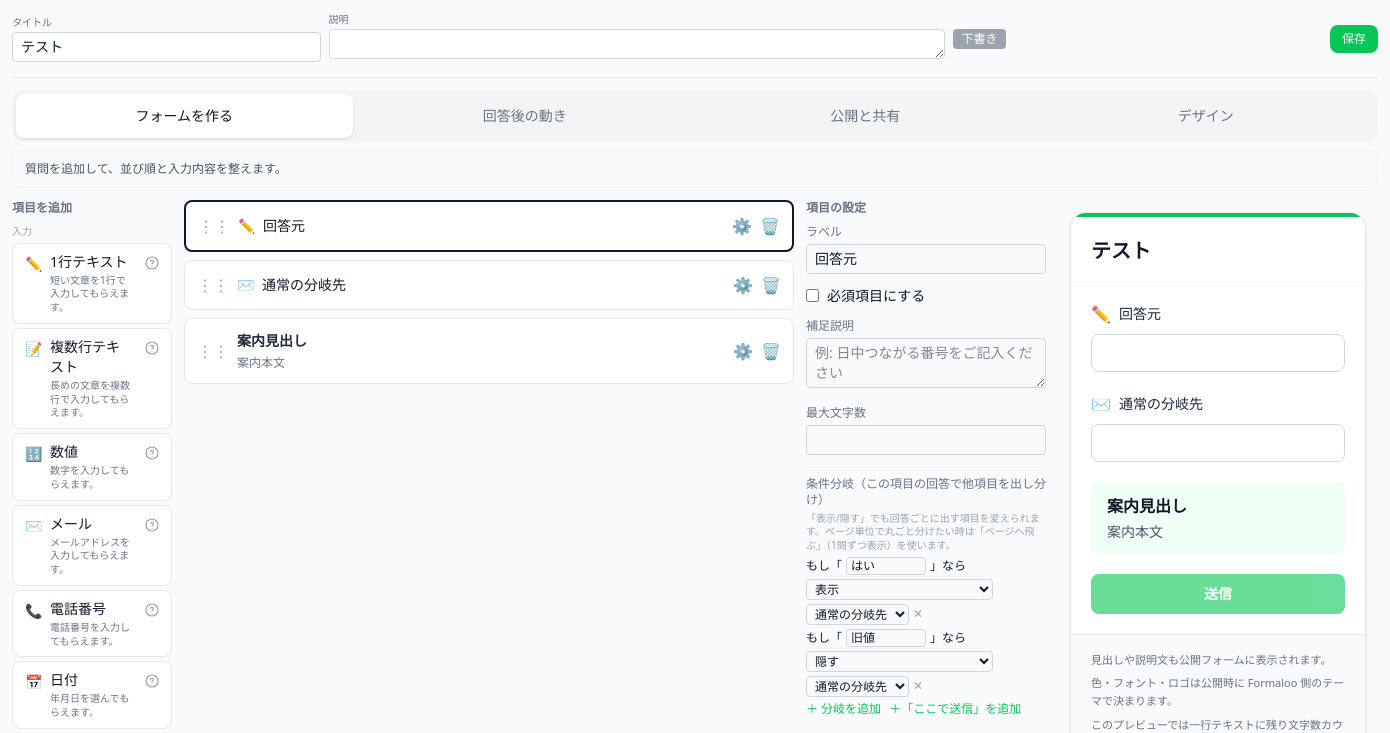
Test: FormBuilder — 装飾を条件分岐から除外 (T-B9) › 装飾は既存 rule の target options に出ず、装飾自身には条件分岐 UI がない
Click the text "案内見出し" at (272, 340), box [237,330,307,350]
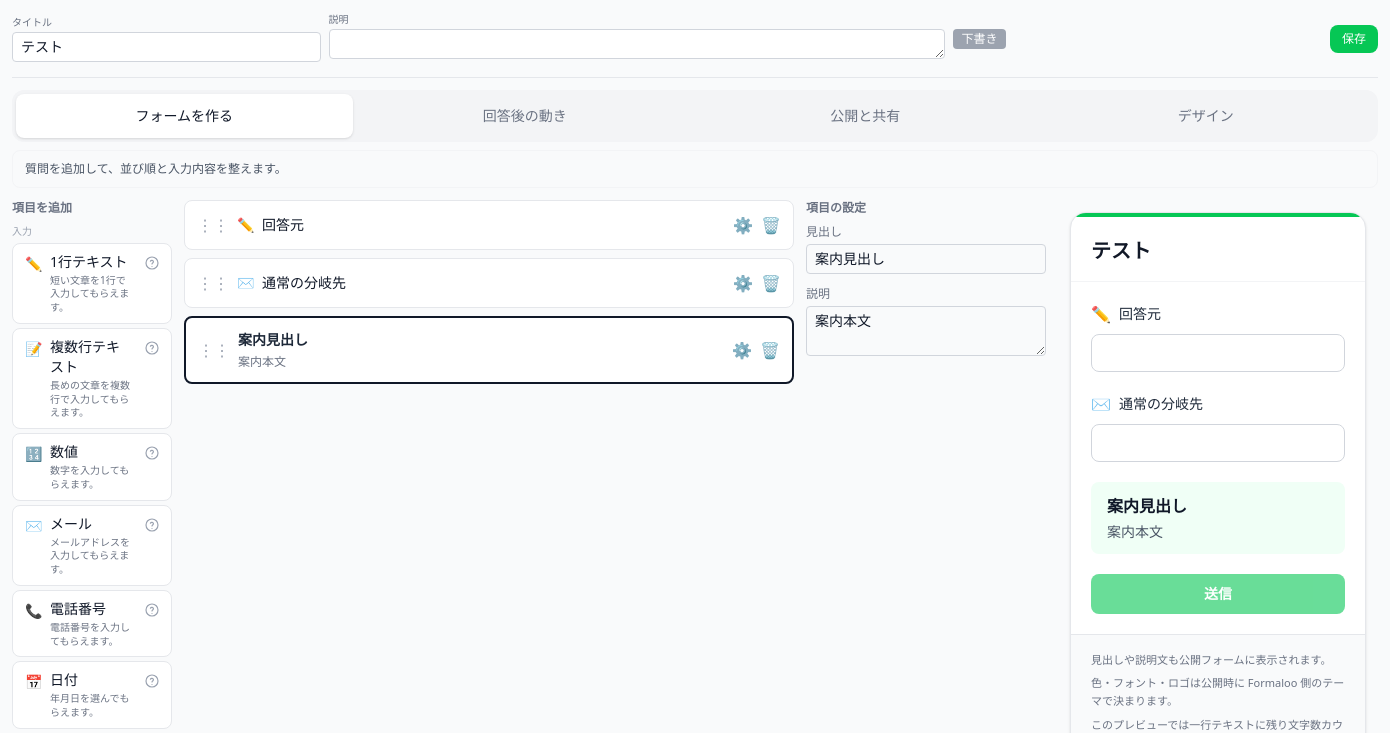
Expected: the text "条件分岐（この項目" is gone
Expected: the button "＋ 分岐を追加" is gone
